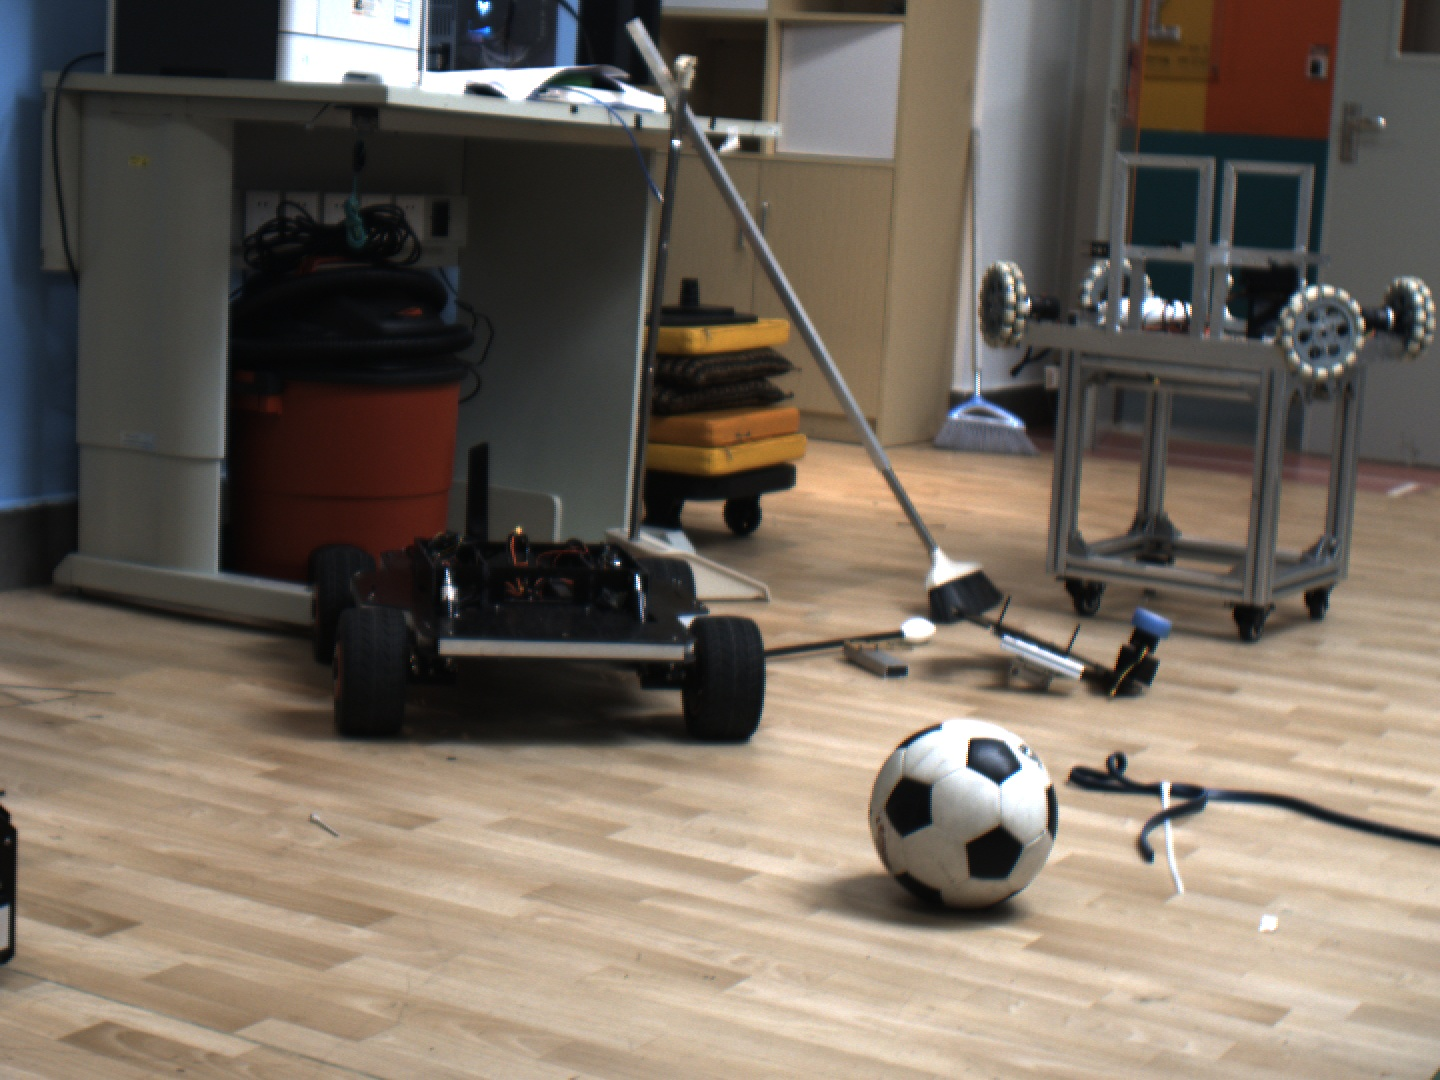ball: (855, 710, 1096, 935)
